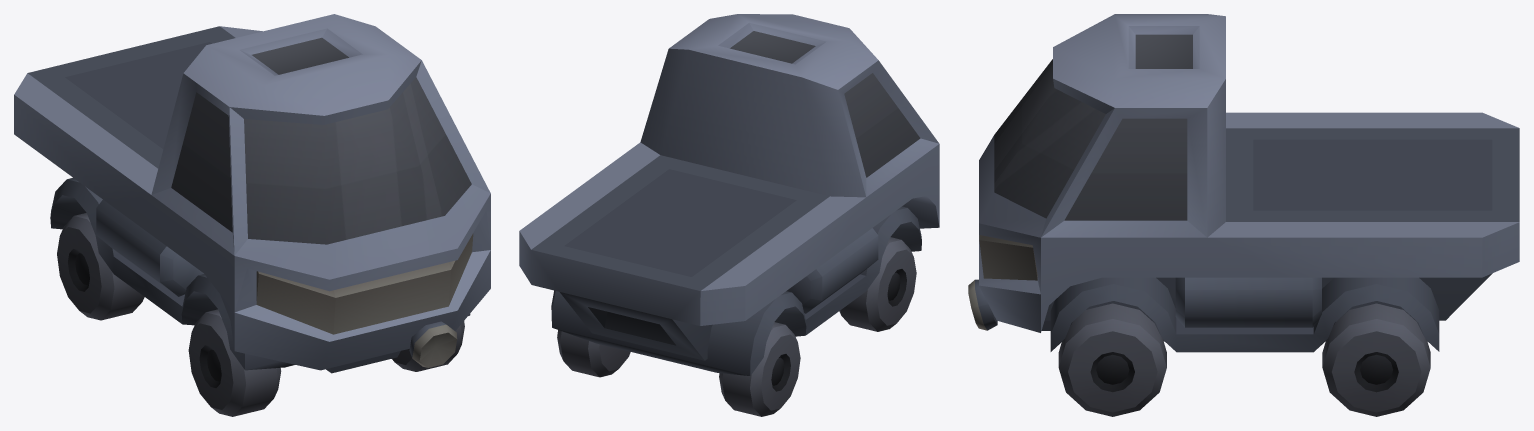
Rendered from spacetruck.glb.
3 renders of one model, left to right at view 1: azimuth 30°, elevation 25°; view 2: azimuth 150°, elevation 25°; view 3: azimuth 270°, elevation 25°, orthographic. The views are drawn at different scales.
Parts seen in each view (by area): view 1: spacetruck, spacetruck_wheel_front_right, spacetruck_wheel_rear_right, spacetruck_wheel_front_left; view 2: spacetruck, spacetruck_wheel_rear_right, spacetruck_wheel_front_right, spacetruck_wheel_rear_left; view 3: spacetruck, spacetruck_wheel_front_left, spacetruck_wheel_rear_left.
Part boxes in pixels (x1=…): spacetruck: x1=14, y1=14, x2=490, y2=373; spacetruck_wheel_front_right: x1=188, y1=309, x2=281, y2=416; spacetruck_wheel_rear_right: x1=57, y1=213, x2=144, y2=320; spacetruck_wheel_front_left: x1=392, y1=321, x2=464, y2=371; spacetruck: x1=519, y1=14, x2=939, y2=375; spacetruck_wheel_rear_right: x1=719, y1=322, x2=800, y2=416; spacetruck_wheel_front_right: x1=839, y1=237, x2=916, y2=331; spacetruck_wheel_rear_left: x1=557, y1=330, x2=630, y2=377; spacetruck: x1=968, y1=14, x2=1519, y2=352; spacetruck_wheel_front_left: x1=1058, y1=303, x2=1166, y2=416; spacetruck_wheel_rear_left: x1=1322, y1=303, x2=1430, y2=416.
Bounding box in the file's own units: 0.4895 × 0.5662 × 0.8933.
1 material, 1 textured.
